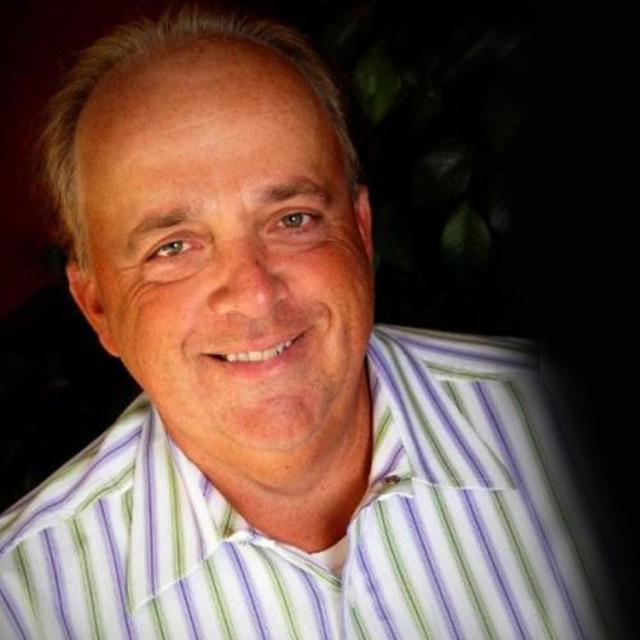Face: (66, 48, 395, 499)
